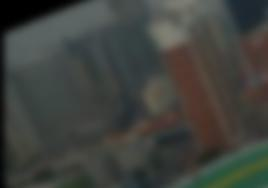Apron: (191, 152, 268, 188)
